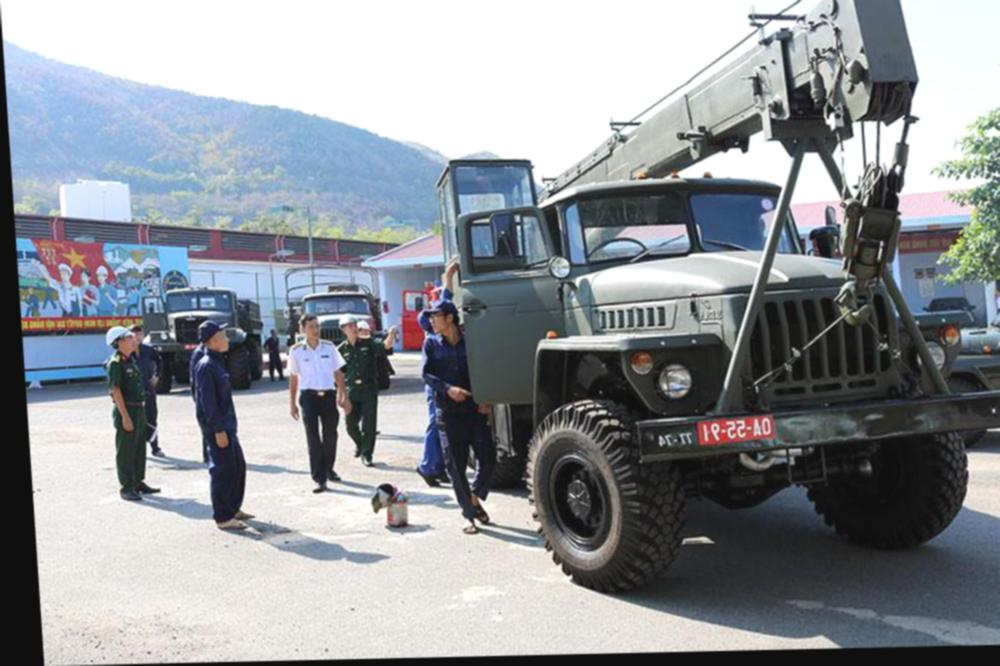License_Plate: (697, 413, 776, 446)
